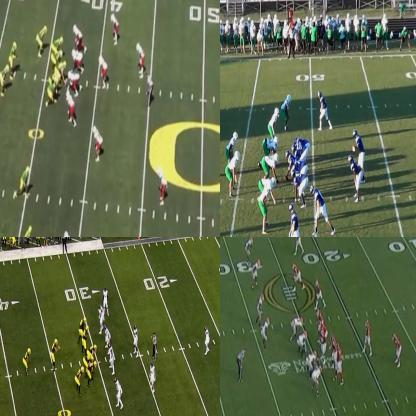CENTER: (54, 64, 66, 90), (318, 325, 326, 356), (284, 150, 292, 180), (89, 343, 98, 358)
DB: (112, 4, 121, 45), (282, 94, 292, 130), (159, 165, 167, 200), (137, 42, 145, 76), (245, 237, 253, 265), (252, 259, 260, 287), (102, 286, 108, 311), (205, 327, 210, 352)
LB: (261, 178, 277, 233), (228, 152, 241, 198), (93, 124, 104, 162), (225, 132, 238, 158), (98, 57, 108, 89), (268, 108, 278, 136), (148, 360, 157, 388), (262, 318, 269, 350), (256, 296, 263, 326), (98, 302, 104, 323), (134, 326, 138, 352)
QB: (353, 129, 367, 166), (11, 38, 19, 78), (364, 320, 372, 358), (50, 338, 59, 370)
SKILL: (311, 182, 328, 230), (350, 155, 362, 200), (285, 207, 300, 236), (317, 90, 328, 129), (19, 164, 30, 200), (73, 365, 84, 396), (392, 334, 401, 367), (0, 65, 10, 94), (36, 28, 47, 53), (23, 346, 32, 376), (315, 280, 324, 310), (292, 262, 302, 288), (22, 221, 32, 236), (294, 237, 302, 252)
